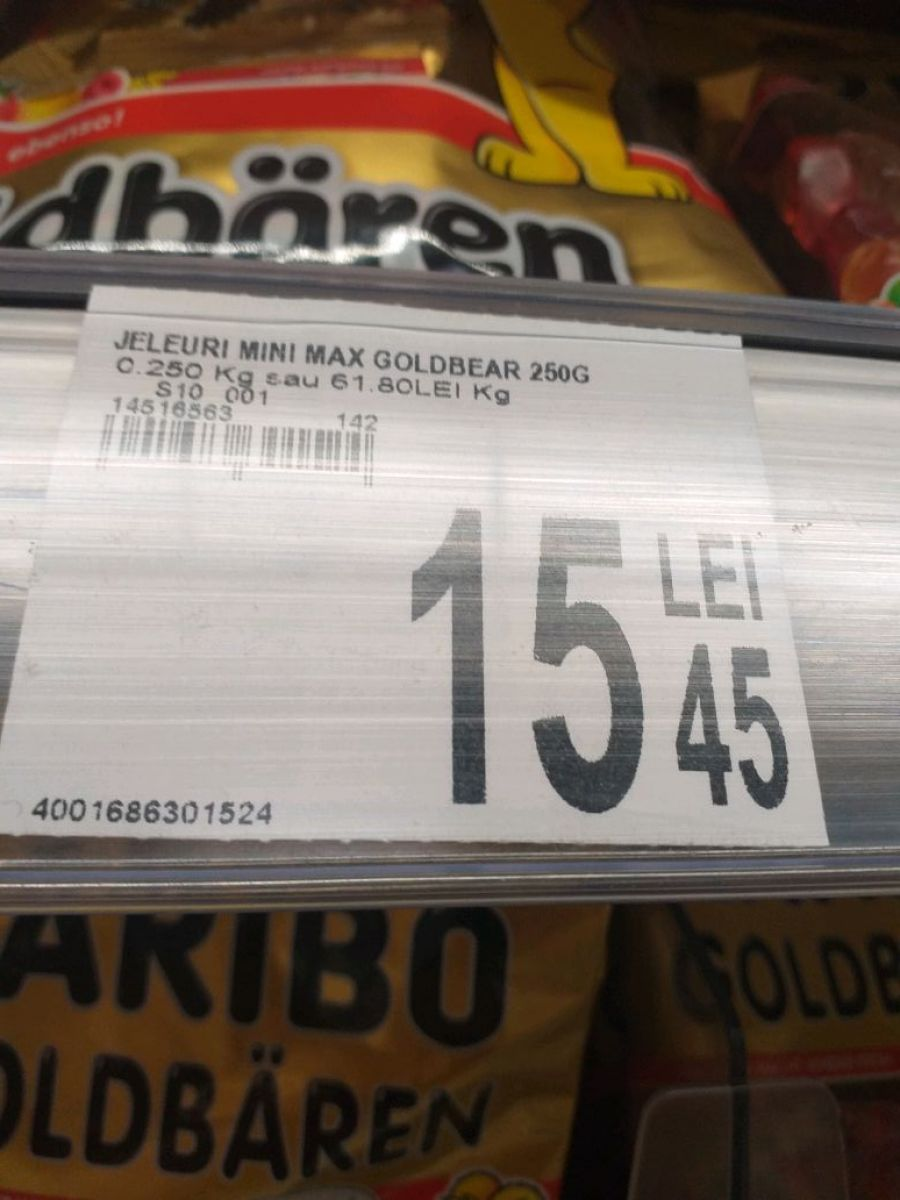bardcode: (31, 795, 275, 830)
list: (5, 282, 832, 847)
name: (105, 323, 598, 385)
price: (405, 495, 794, 817)
